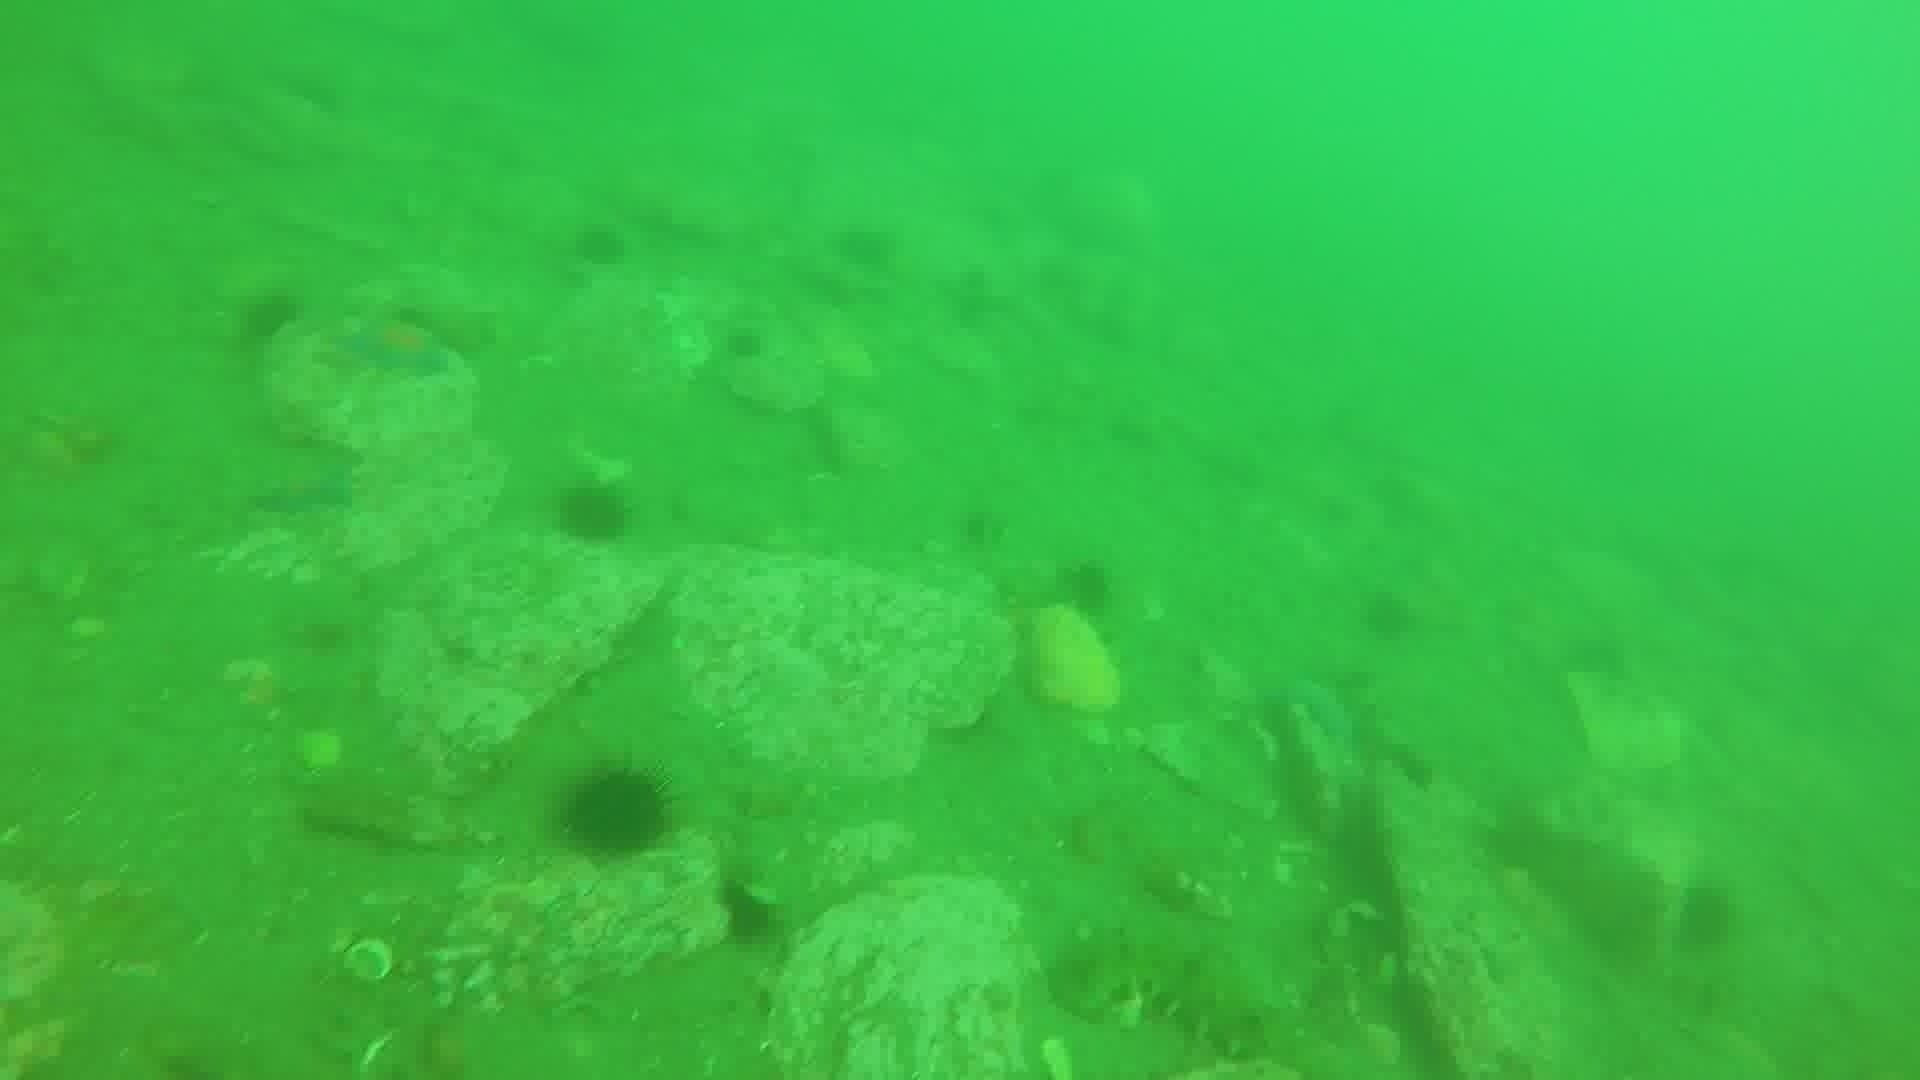echinus: (555, 761, 676, 864), (550, 477, 634, 550), (1671, 880, 1741, 955), (713, 877, 785, 949), (233, 285, 305, 349), (1052, 556, 1121, 621), (1356, 585, 1419, 645), (568, 219, 632, 272), (952, 502, 1009, 554), (717, 320, 771, 367)
holothurian: (1048, 924, 1283, 1062)
starfish: (330, 311, 460, 385), (247, 450, 364, 520)
